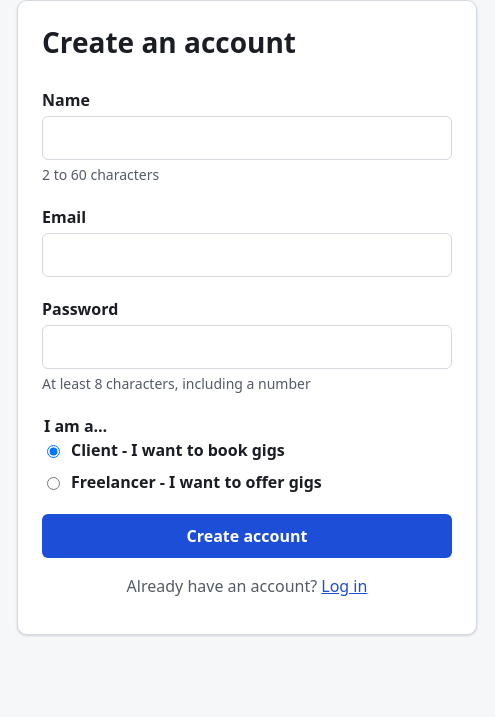
Test: Register page › shows inline errors for bad input and does not submit
The image size is (495, 717).
In the field labelled "Name": (247, 138) [42, 116, 452, 160], type "A"
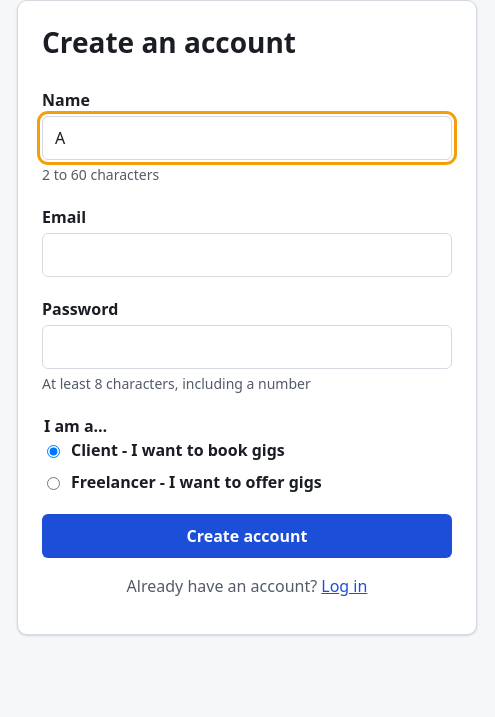
In the field labelled "Email": (247, 255) [42, 233, 452, 277], type "not-an-email"
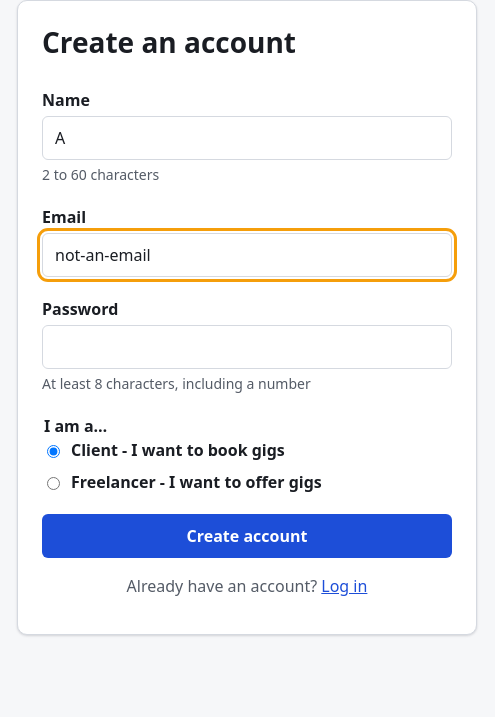
In the password field labelled "Password": (247, 347) [42, 325, 452, 369], type "password"
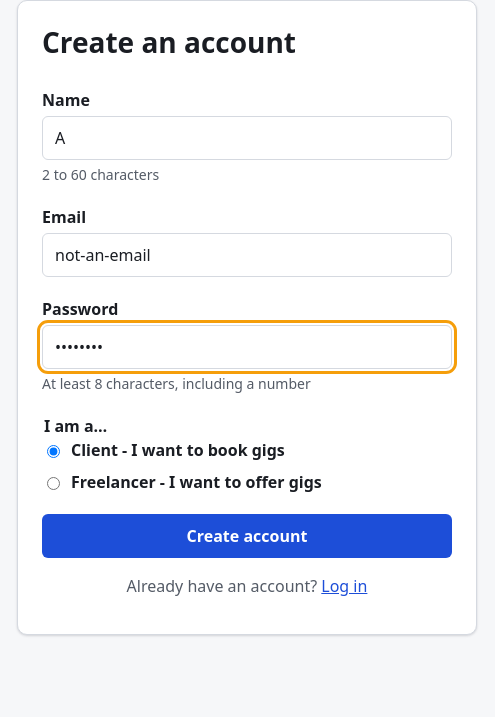
Click the button "Create account": (247, 536) [42, 514, 452, 558]
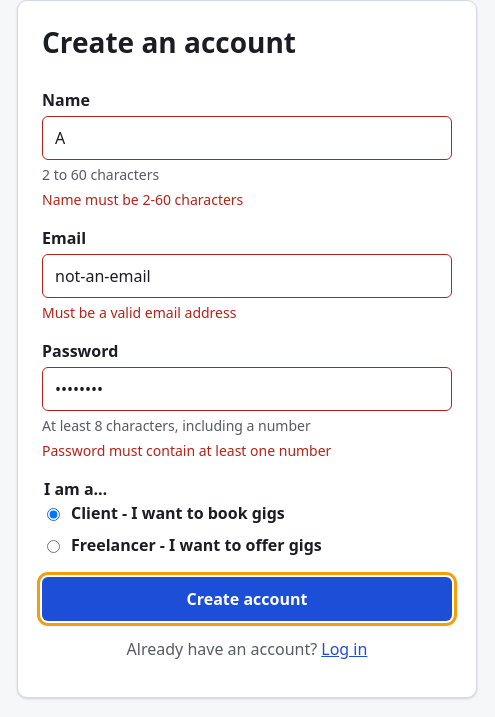
Expected: the text "Name must be 2-60 characters" is shown, [42, 190, 243, 209]
Expected: the text "Must be a valid email address" is shown, [42, 303, 236, 322]
Expected: the text "Password must contain at least one number" is shown, [42, 441, 331, 460]
